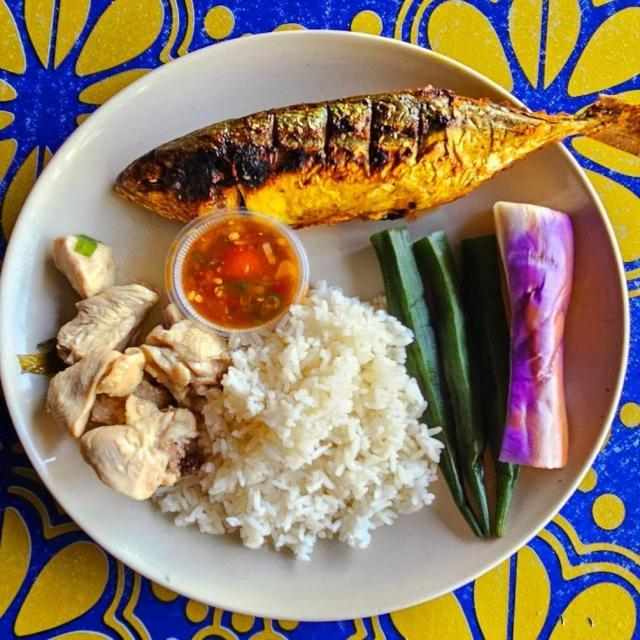Chicken: (46, 238, 229, 503)
Fish: (118, 91, 639, 225)
Plate: (0, 31, 627, 620)
Rice: (149, 281, 442, 556)
Vegetables: (374, 202, 574, 541)
